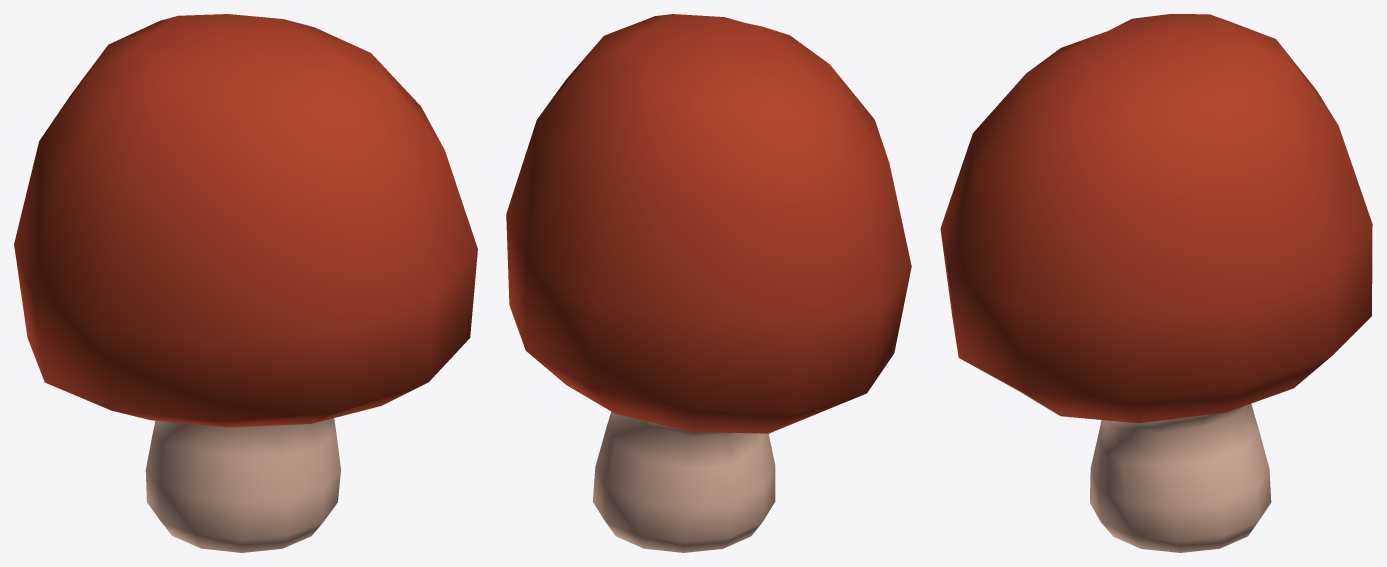
Rendered from Fungus_A_01.fbx.
3 views of the same model, side by side, from view 1: azimuth 30°, elevation 25°; view 2: azimuth 150°, elevation 25°; view 3: azimuth 270°, elevation 25° (orthographic). The views are drawn at different scales.
Visible parts, largest first — view 1: Fungus_A_01_LOD0; view 2: Fungus_A_01_LOD0; view 3: Fungus_A_01_LOD0.
Boxes of the visible parts, x1,y1,x2,y2 form: Fungus_A_01_LOD0: (14,14,477,552); Fungus_A_01_LOD0: (506,14,911,552); Fungus_A_01_LOD0: (940,14,1372,552).
Size of what is drawn, in the model's own units: 167 by 207 by 169.
